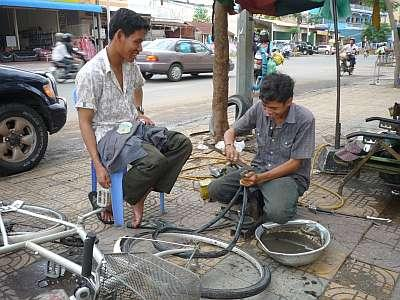person: (205, 69, 320, 229)
